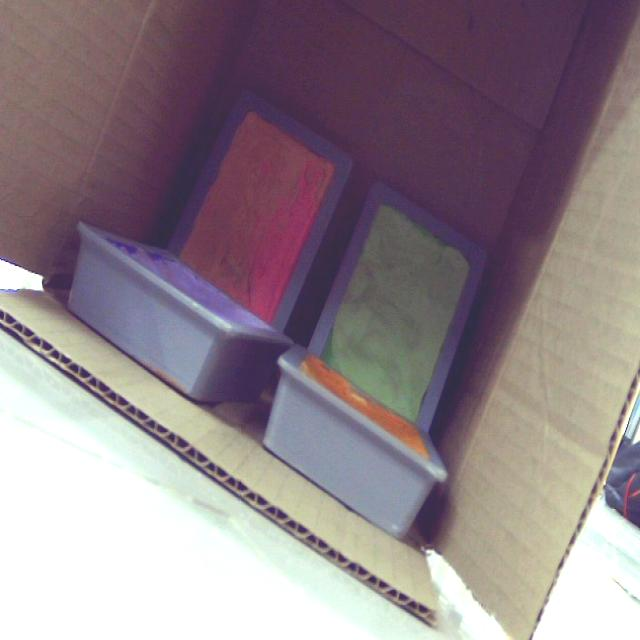block: (303, 184, 486, 436), (172, 95, 355, 331), (65, 224, 299, 406), (261, 342, 451, 540)
